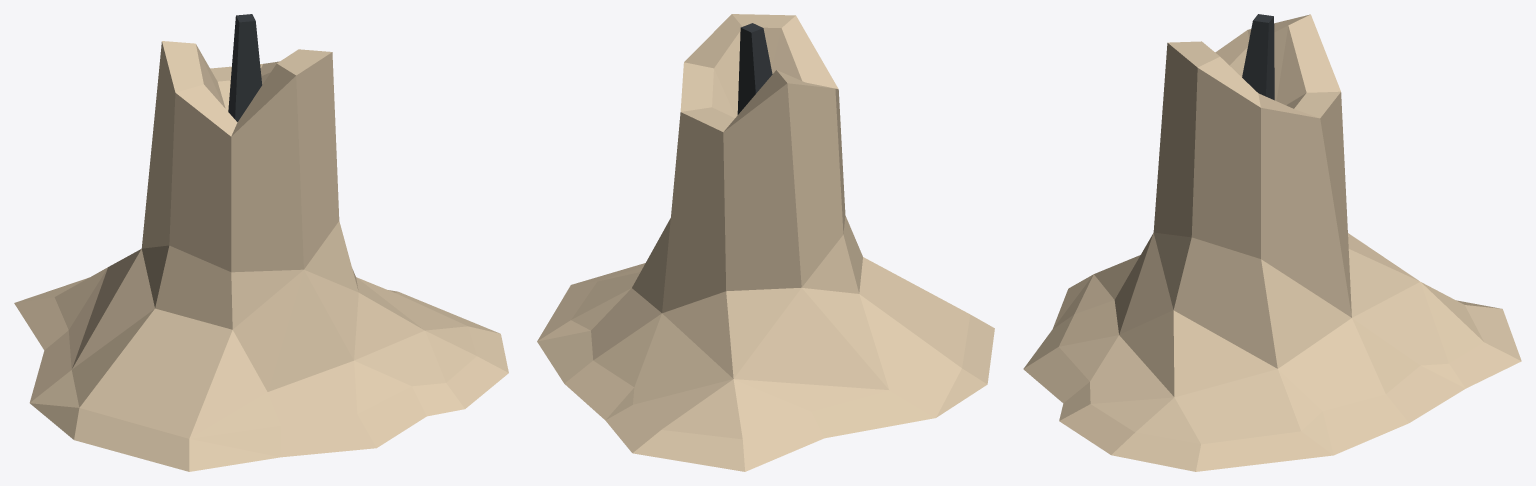
The model's file is SM_Prop_Candle_Melted_03.fbx.
3 views of the same model, side by side, from view 1: azimuth 30°, elevation 25°; view 2: azimuth 150°, elevation 25°; view 3: azimuth 270°, elevation 25° (orthographic). The views are drawn at different scales.
Visible parts, largest first — view 1: SM_Prop_Candle_Melted_03; view 2: SM_Prop_Candle_Melted_03; view 3: SM_Prop_Candle_Melted_03.
Part boxes in pixels (x1,y1,x2,y2): SM_Prop_Candle_Melted_03: [14, 14, 508, 471]; SM_Prop_Candle_Melted_03: [537, 14, 994, 471]; SM_Prop_Candle_Melted_03: [1023, 14, 1521, 471].
Size of the model in its own units: 0.1549 by 0.1189 by 0.1556.
1 material, 1 textured.
